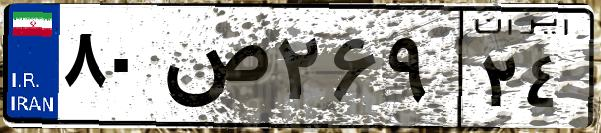0: (110, 28, 158, 98)
2: (270, 28, 330, 110), (475, 38, 525, 113)
4: (525, 38, 570, 115)
6: (330, 28, 385, 110)
8: (57, 26, 110, 100)
9: (385, 28, 445, 110)
ص: (158, 20, 270, 120)
